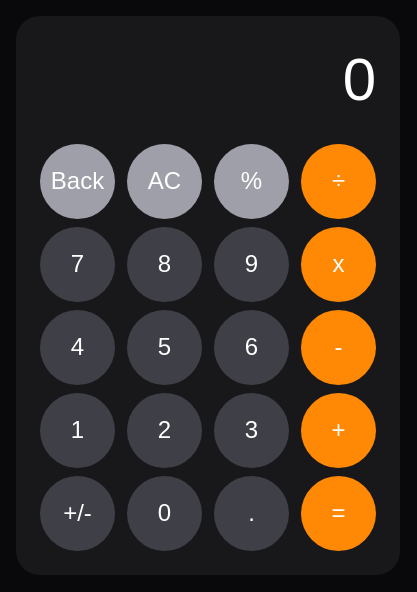
number entry › toggles a number's sign in both directions
Click the button "4": click(78, 347) [40,310,115,384]
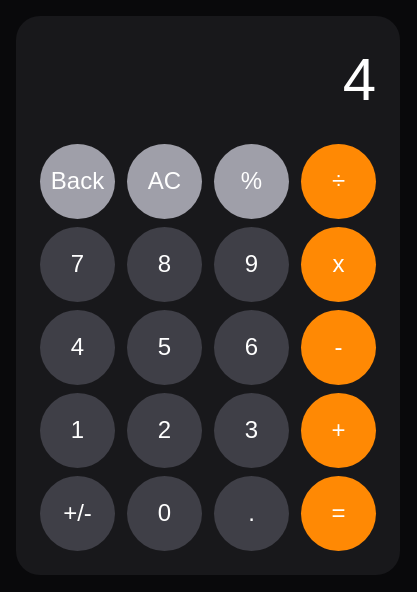
Click the button "+/-": click(78, 513) [40,476,115,550]
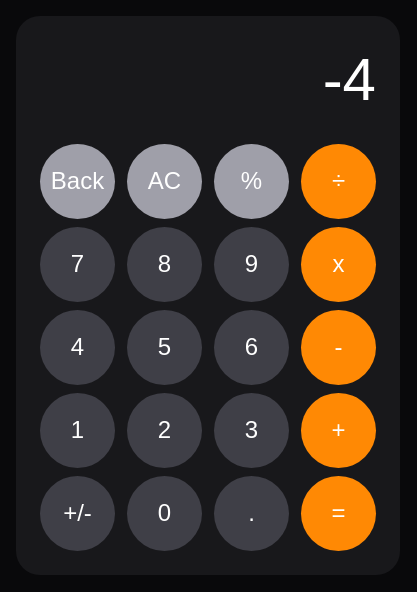
Expected: the element showing "-4" is shown, [323,46,376,112]
Click the button "+/-": click(78, 513) [40,476,115,550]
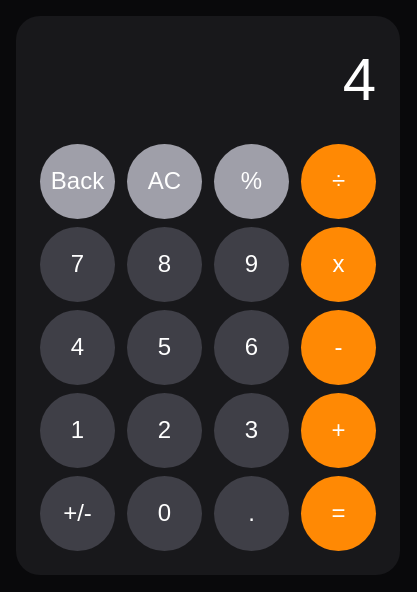
Expected: the element showing "4" is shown, [343,46,376,112]
